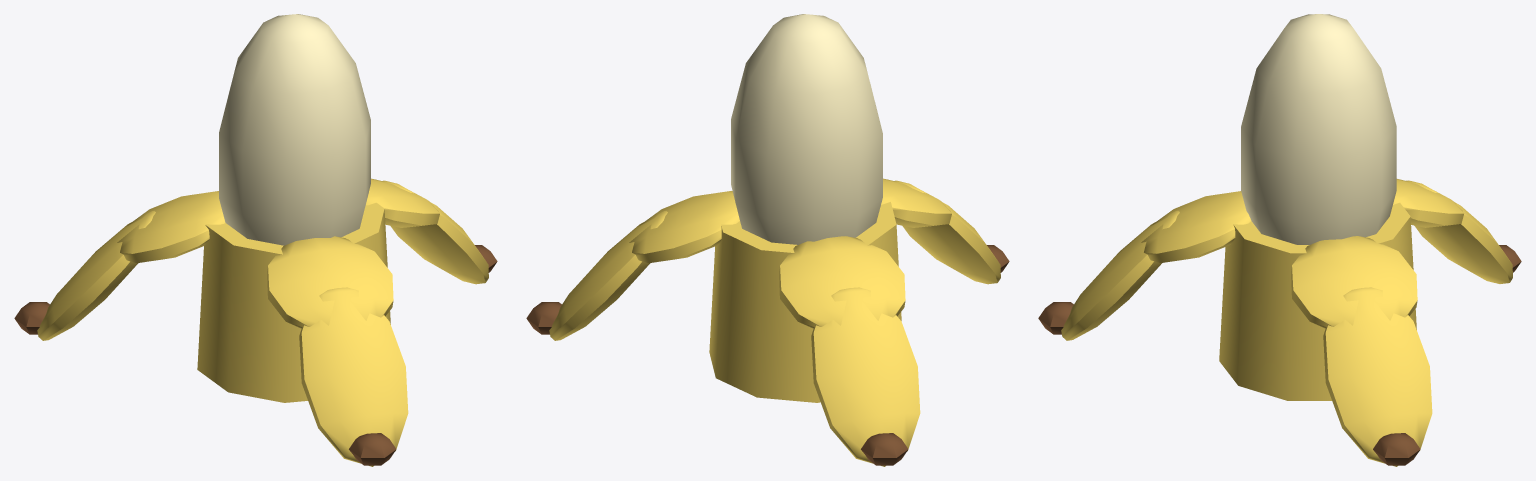
File: banana.glb
3 renders of one model, left to right at view 1: azimuth 30°, elevation 25°; view 2: azimuth 150°, elevation 25°; view 3: azimuth 270°, elevation 25°, orthographic.
Parts seen in each view (by area): view 1: BananaMesh; view 2: BananaMesh; view 3: BananaMesh.
Part boxes in pixels (left/top/right/bottom): BananaMesh: left=14, top=14, right=497, bottom=466; BananaMesh: left=526, top=14, right=1009, bottom=466; BananaMesh: left=1038, top=14, right=1521, bottom=466.
Size of the model in its own units: 0.6093 by 0.48 by 0.606.
